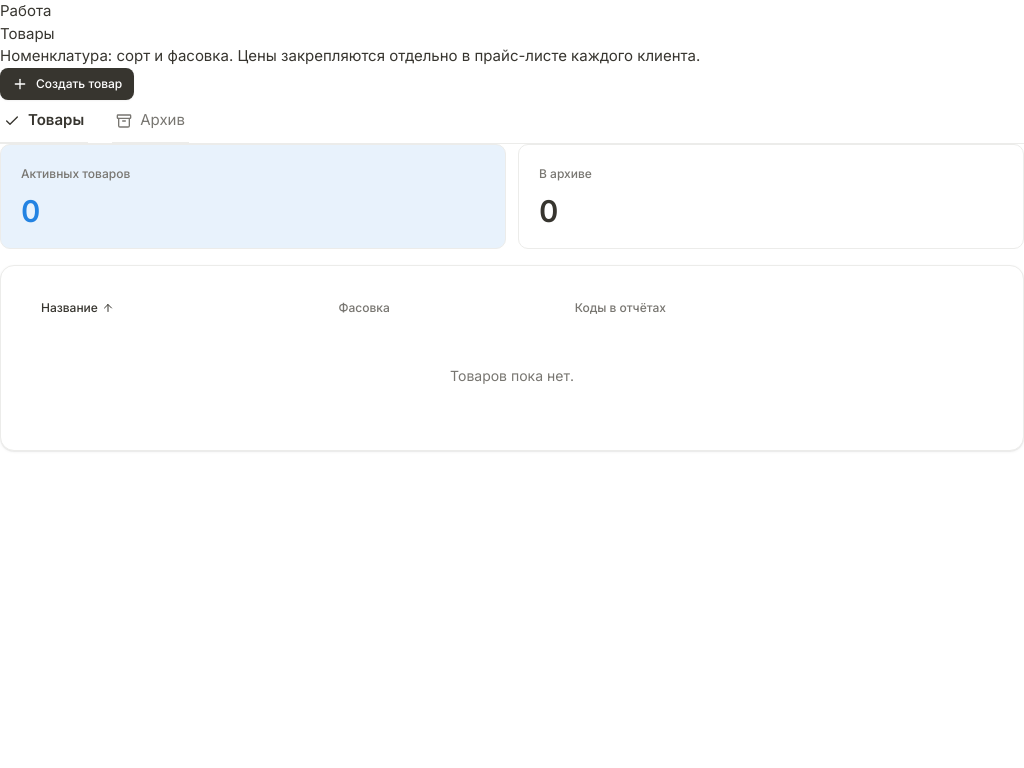
Scenario: ProductsPage — новый товар › posts the stock right after creation and, when it fails, retries only the stock on the created product
Click the button "Создать товар".
click(67, 84)  # box [0,68,134,100]
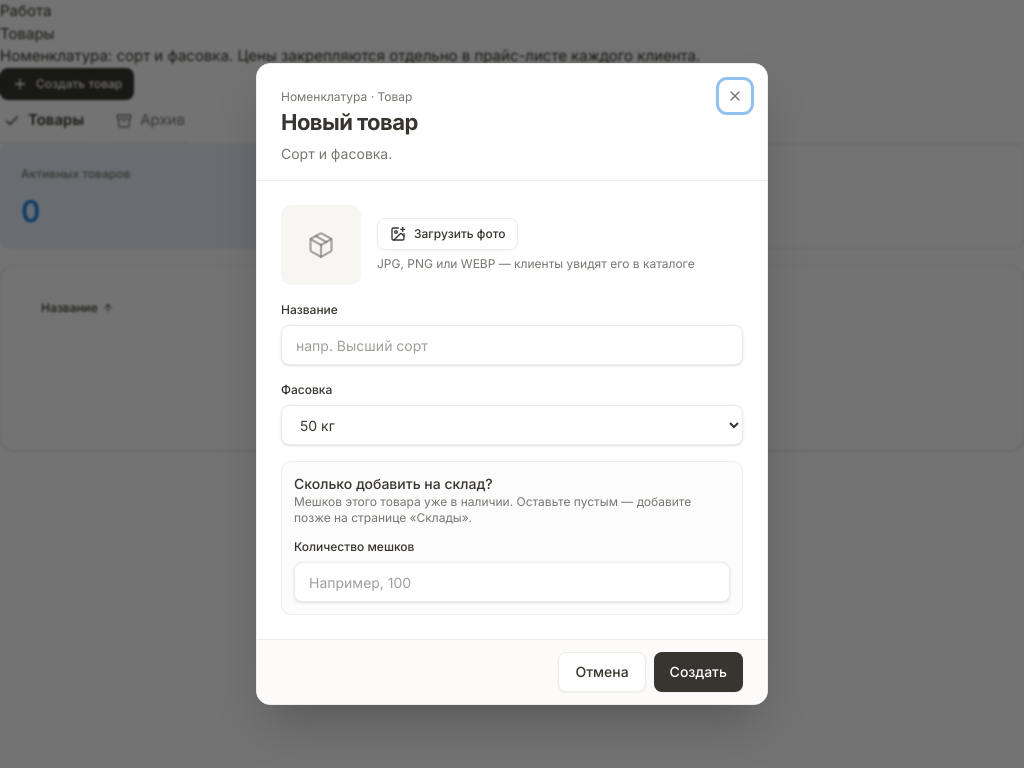
Expected: the field labelled "Коды в отчётах о вагонах" is not shown
Type "Высший сорт" into the field labelled "Название".
click(512, 345); type("Высший сорт")  # box [281,325,743,365]
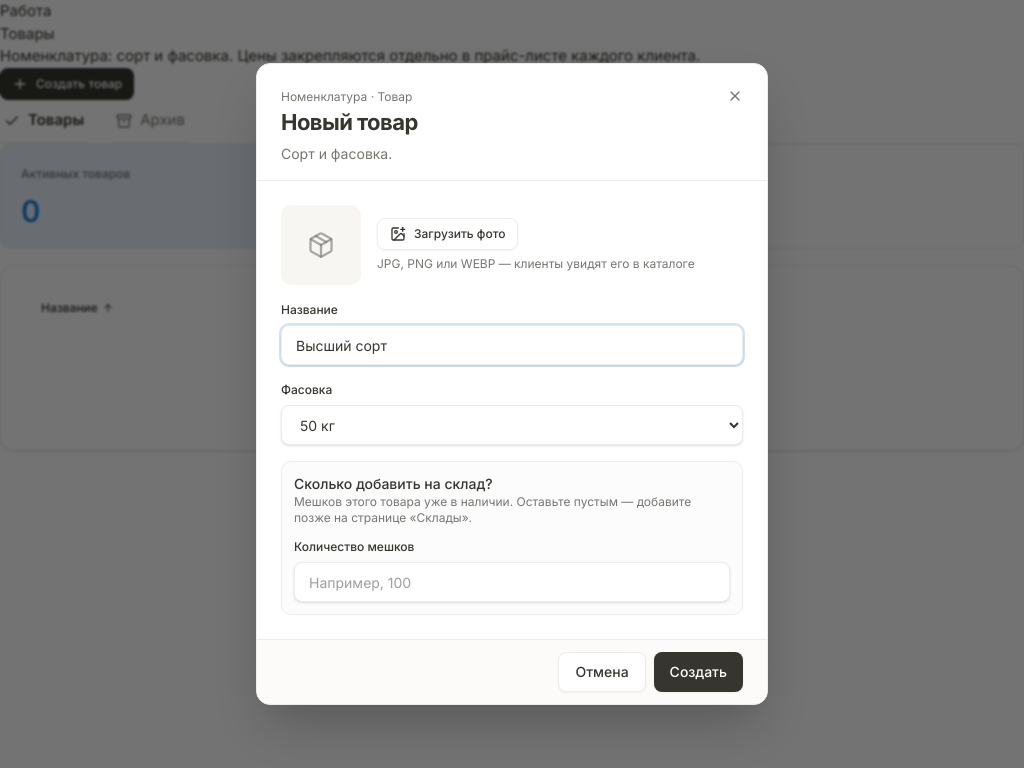
Type "100" into the number field labelled "Количество мешков".
click(512, 582); type("100")  # box [294,562,730,602]
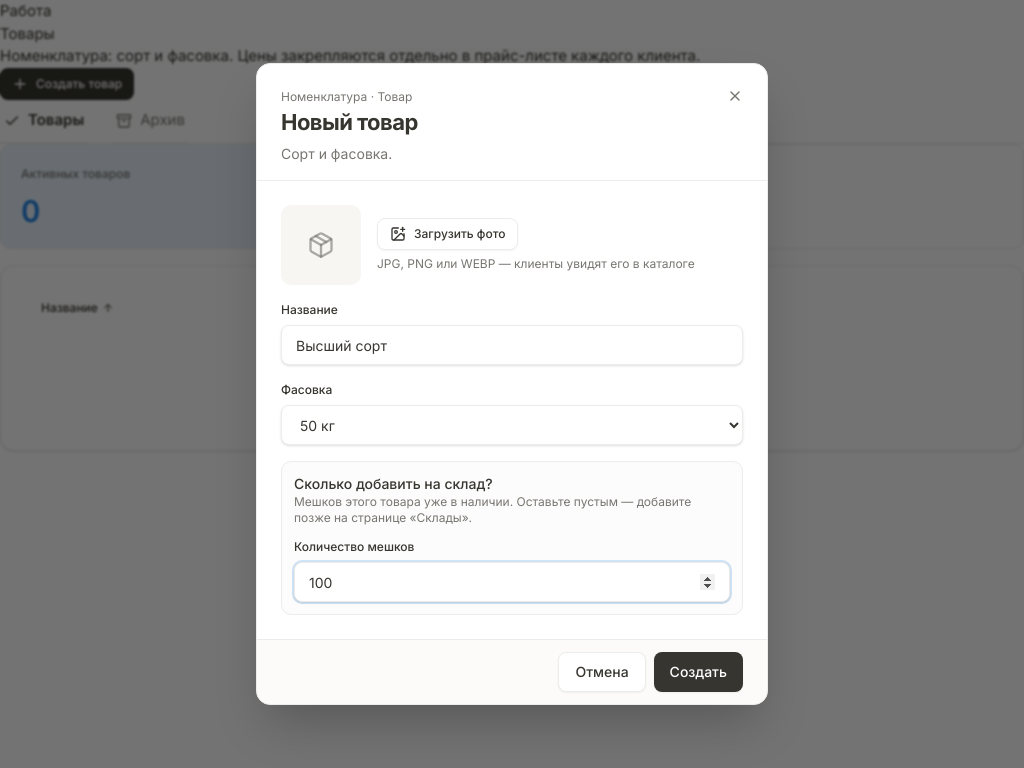
Click the button "Создать".
click(698, 672)  # box [654,652,743,692]
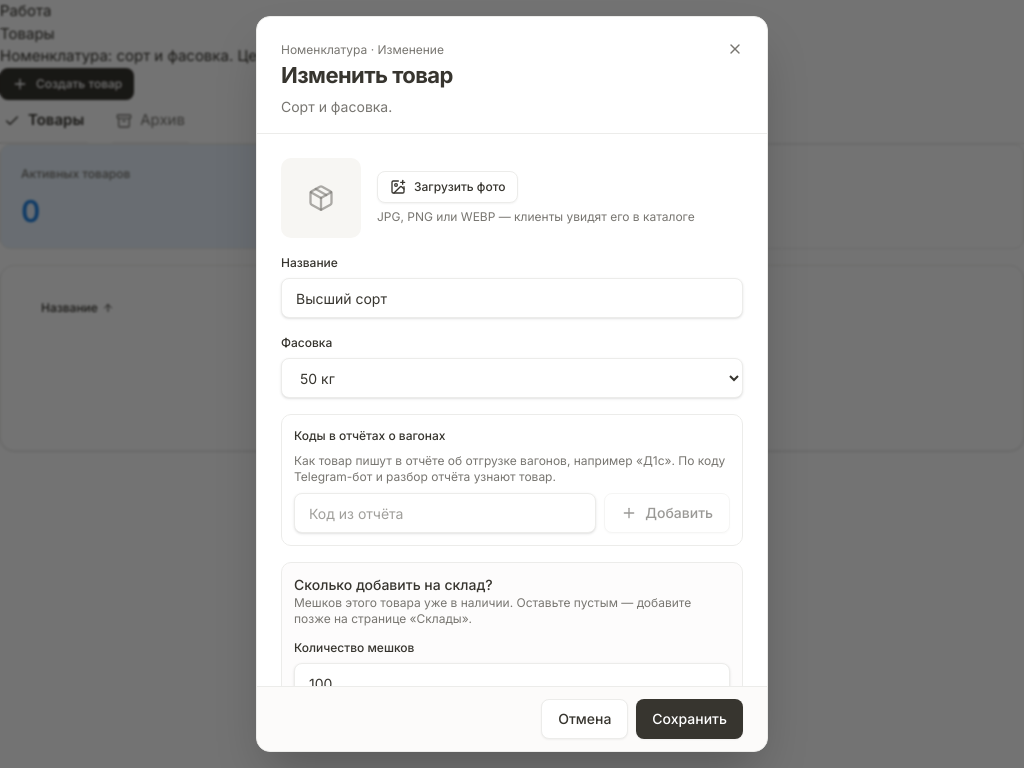
Result: the field labelled "Коды в отчётах о вагонах" is shown at [294,493,596,533]
Click the button "Сохранить".
click(690, 719)  # box [636,699,743,739]
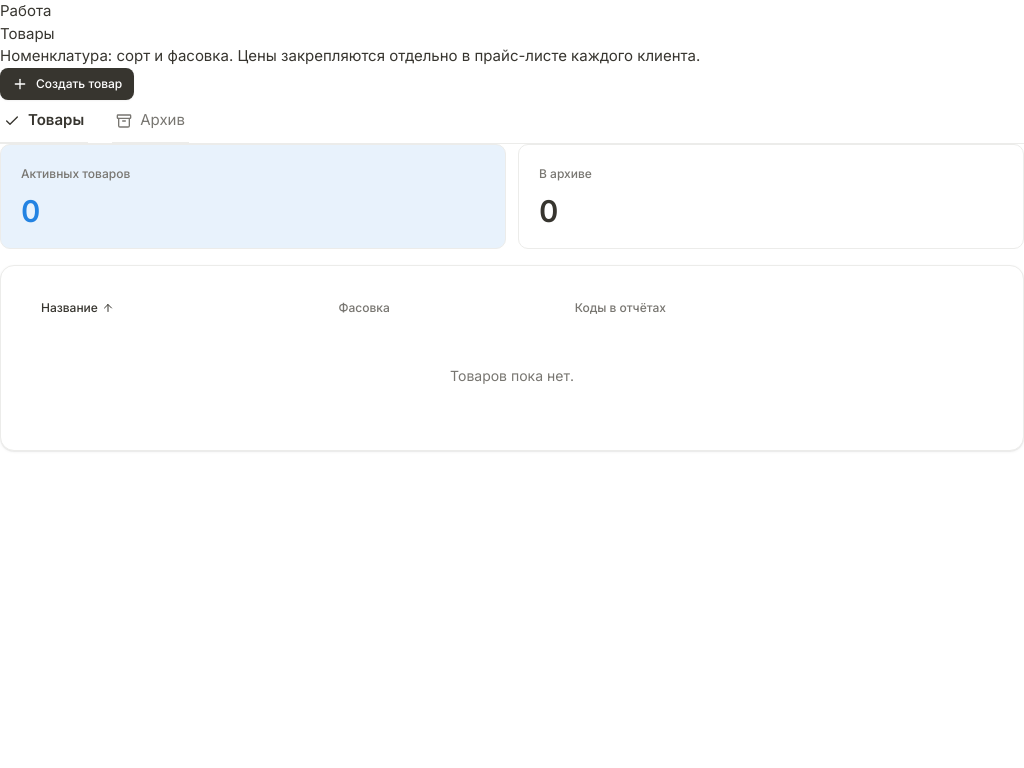
Result: the dialog is gone
